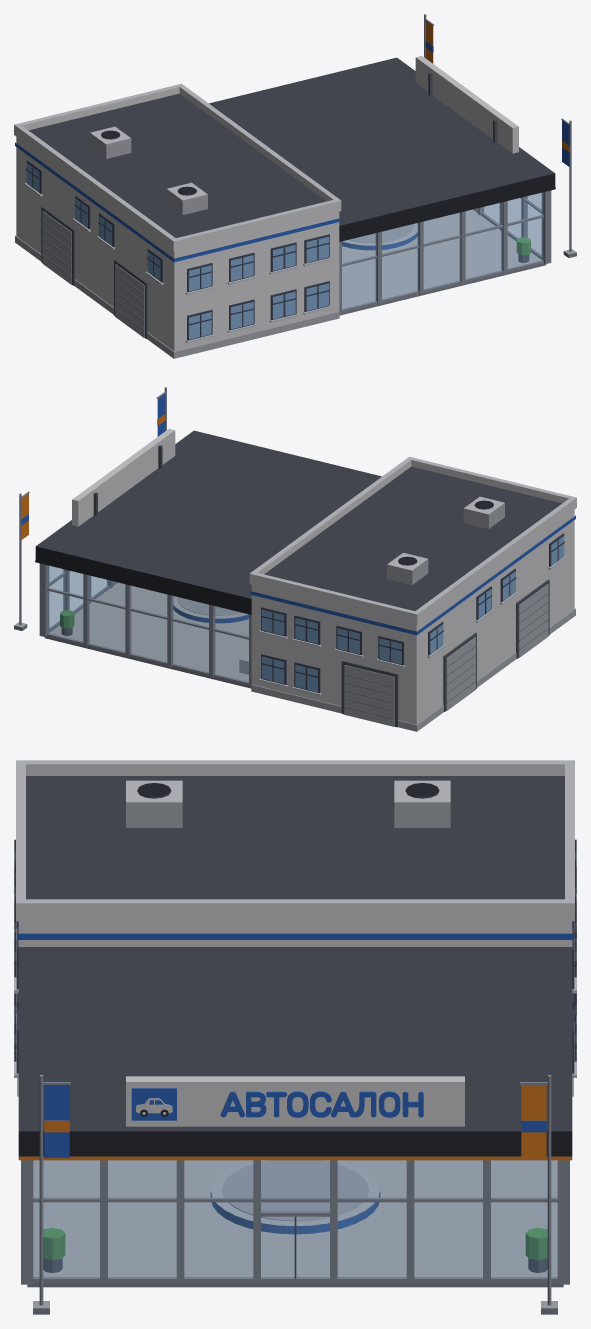
The model's file is dealership.glb.
3 renders of one model, top to bottom at view 1: azimuth 30°, elevation 25°; view 2: azimuth 150°, elevation 25°; view 3: azimuth 270°, elevation 25°, orthographic. The views are drawn at different scales.
Visible parts, largest first — view 1: Dealership, Glass; view 2: Dealership, Glass; view 3: Dealership, Glass.
Boxes of the visible parts, x1,y1,x2,y2 form: Dealership: (14,14,576,358); Glass: (342,192,542,309); Dealership: (14,387,576,731); Glass: (48,565,248,682); Dealership: (14,760,576,1314); Glass: (33,1160,557,1277).
Bounding box in the file's own units: 29.27 × 9.2 × 19.94.
